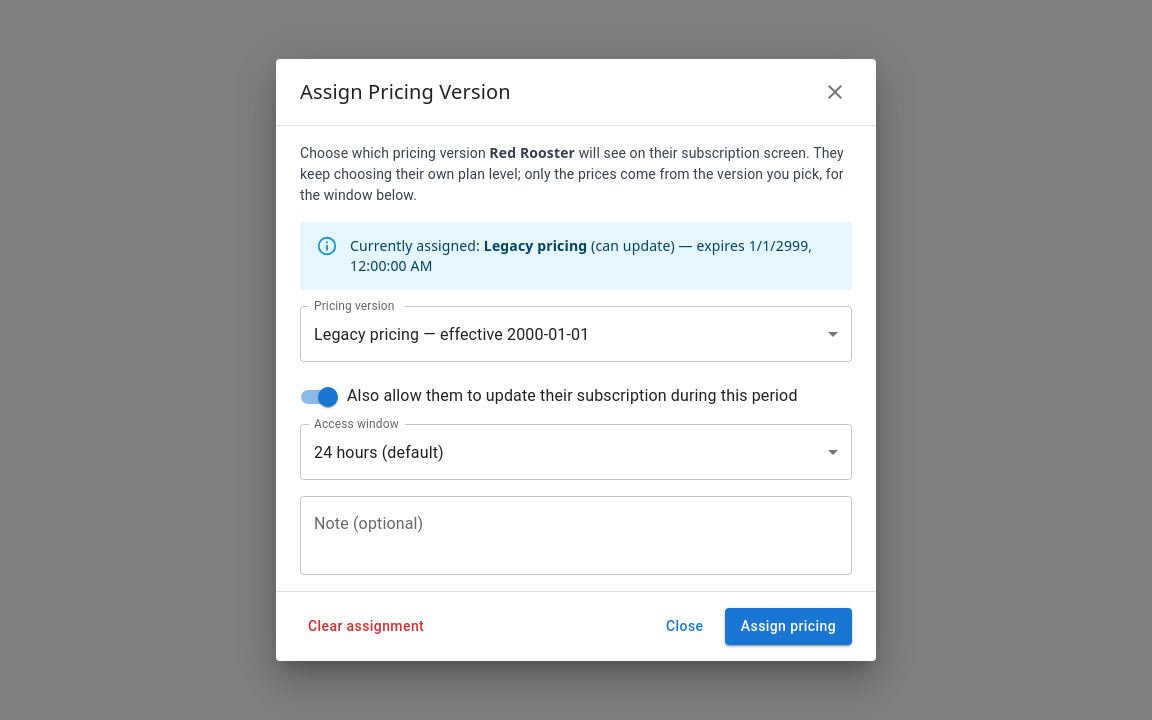
Test: AssignPlanDialog (pricing version) › clears an existing assignment
Expected: the message with test id "existing-assignment" is shown, [300,222,852,290]
Click the button with test id "clear-assignment" at (366, 627), box [300,608,432,645]
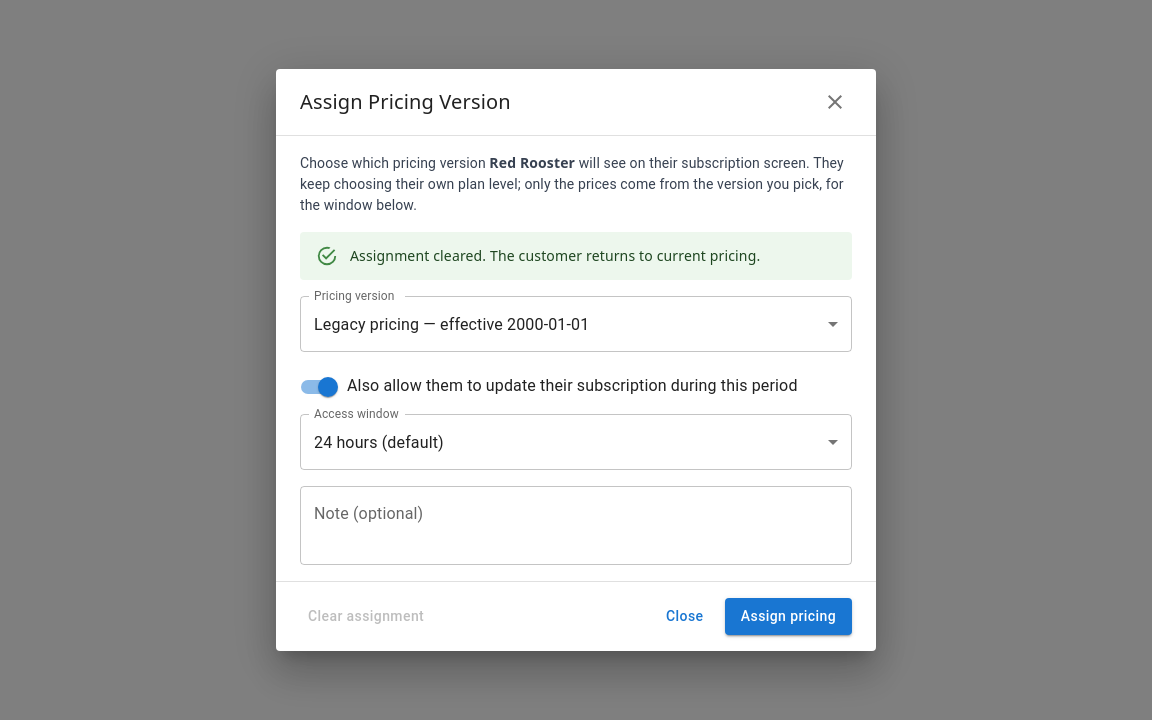
Result: the text "Assignment cleared. The customer returns to current pricing." is shown at [350,246,760,265]
